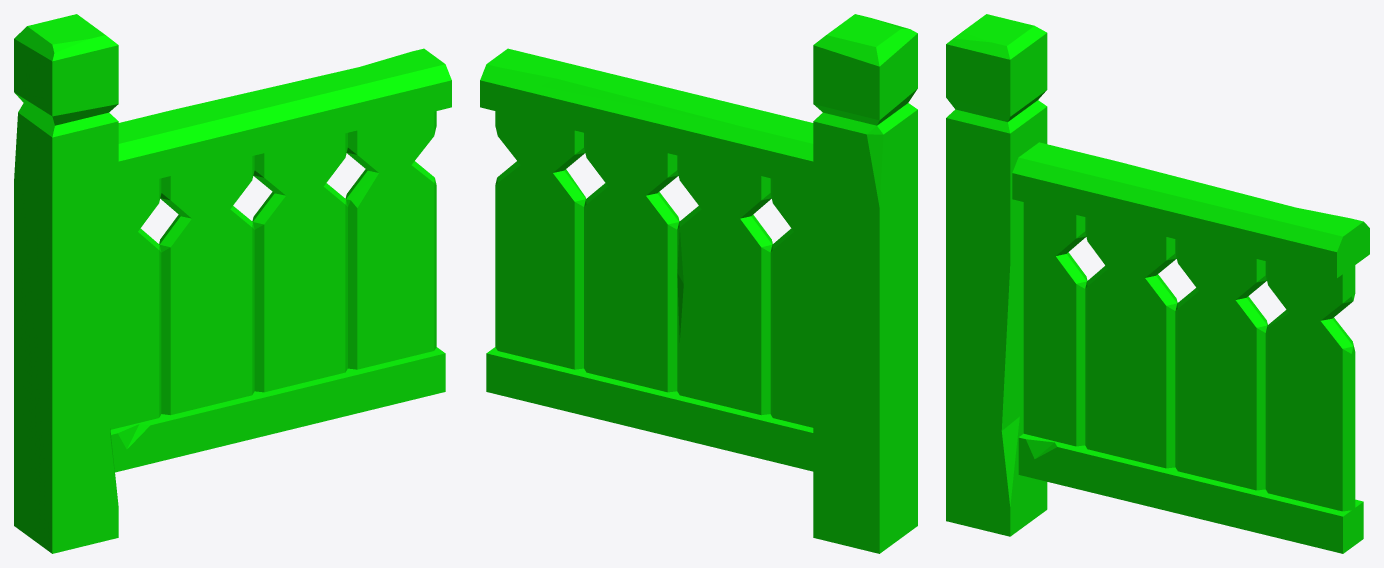
File: SM_Railing_Wood_Post_B_1m.fbx
3 views of the same model, side by side, from view 1: azimuth 30°, elevation 25°; view 2: azimuth 150°, elevation 25°; view 3: azimuth 330°, elevation 25° (orthographic). The views are drawn at different scales.
Visible parts, largest first — view 1: railing-wood-post-b-1m; view 2: railing-wood-post-b-1m; view 3: railing-wood-post-b-1m.
Boxes of the visible parts, left/top/right/bottom form: railing-wood-post-b-1m: left=14, top=14, right=451, bottom=553; railing-wood-post-b-1m: left=480, top=14, right=917, bottom=553; railing-wood-post-b-1m: left=946, top=14, right=1369, bottom=553.
Size of the model in its own units: 1.09 by 1.3 by 0.18.
